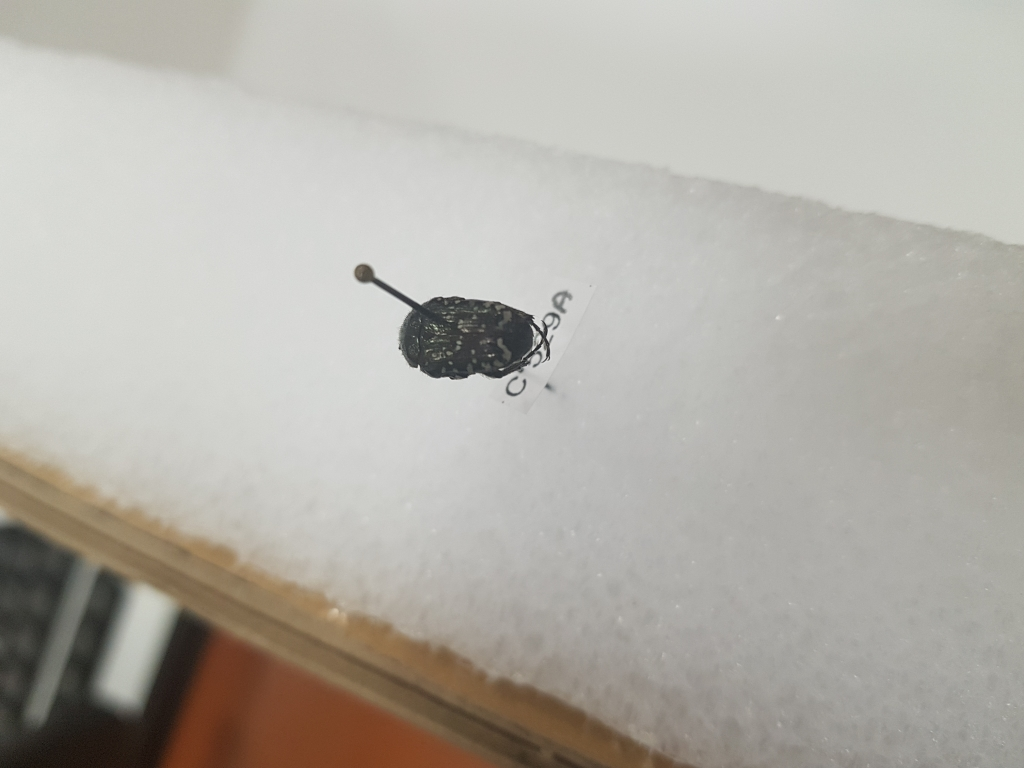Oxythyrea_funesta: (394, 291, 563, 387)
